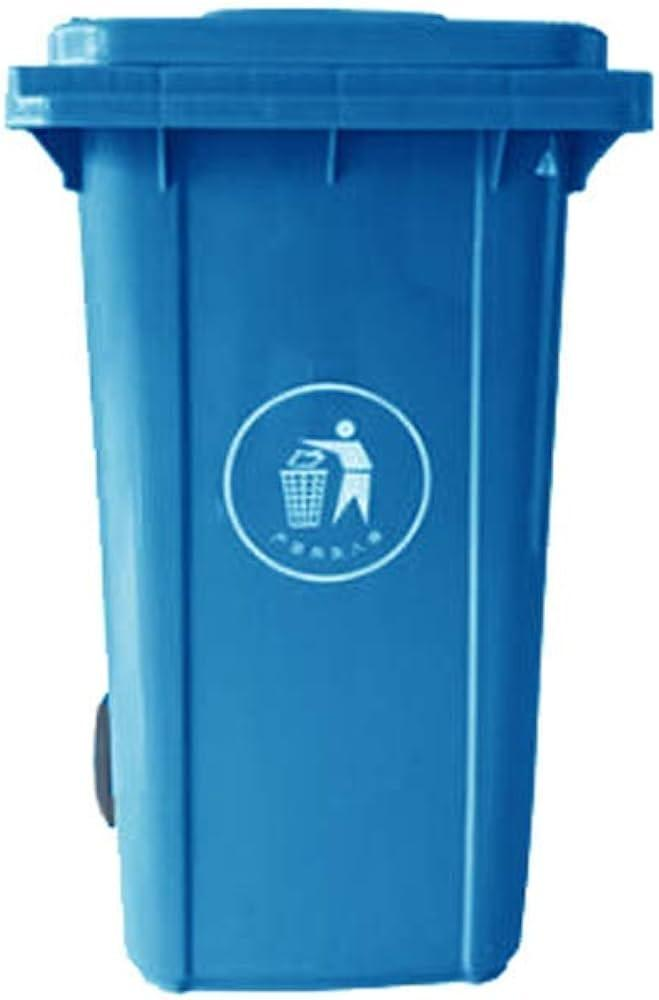trash: (97, 130, 659, 986)
